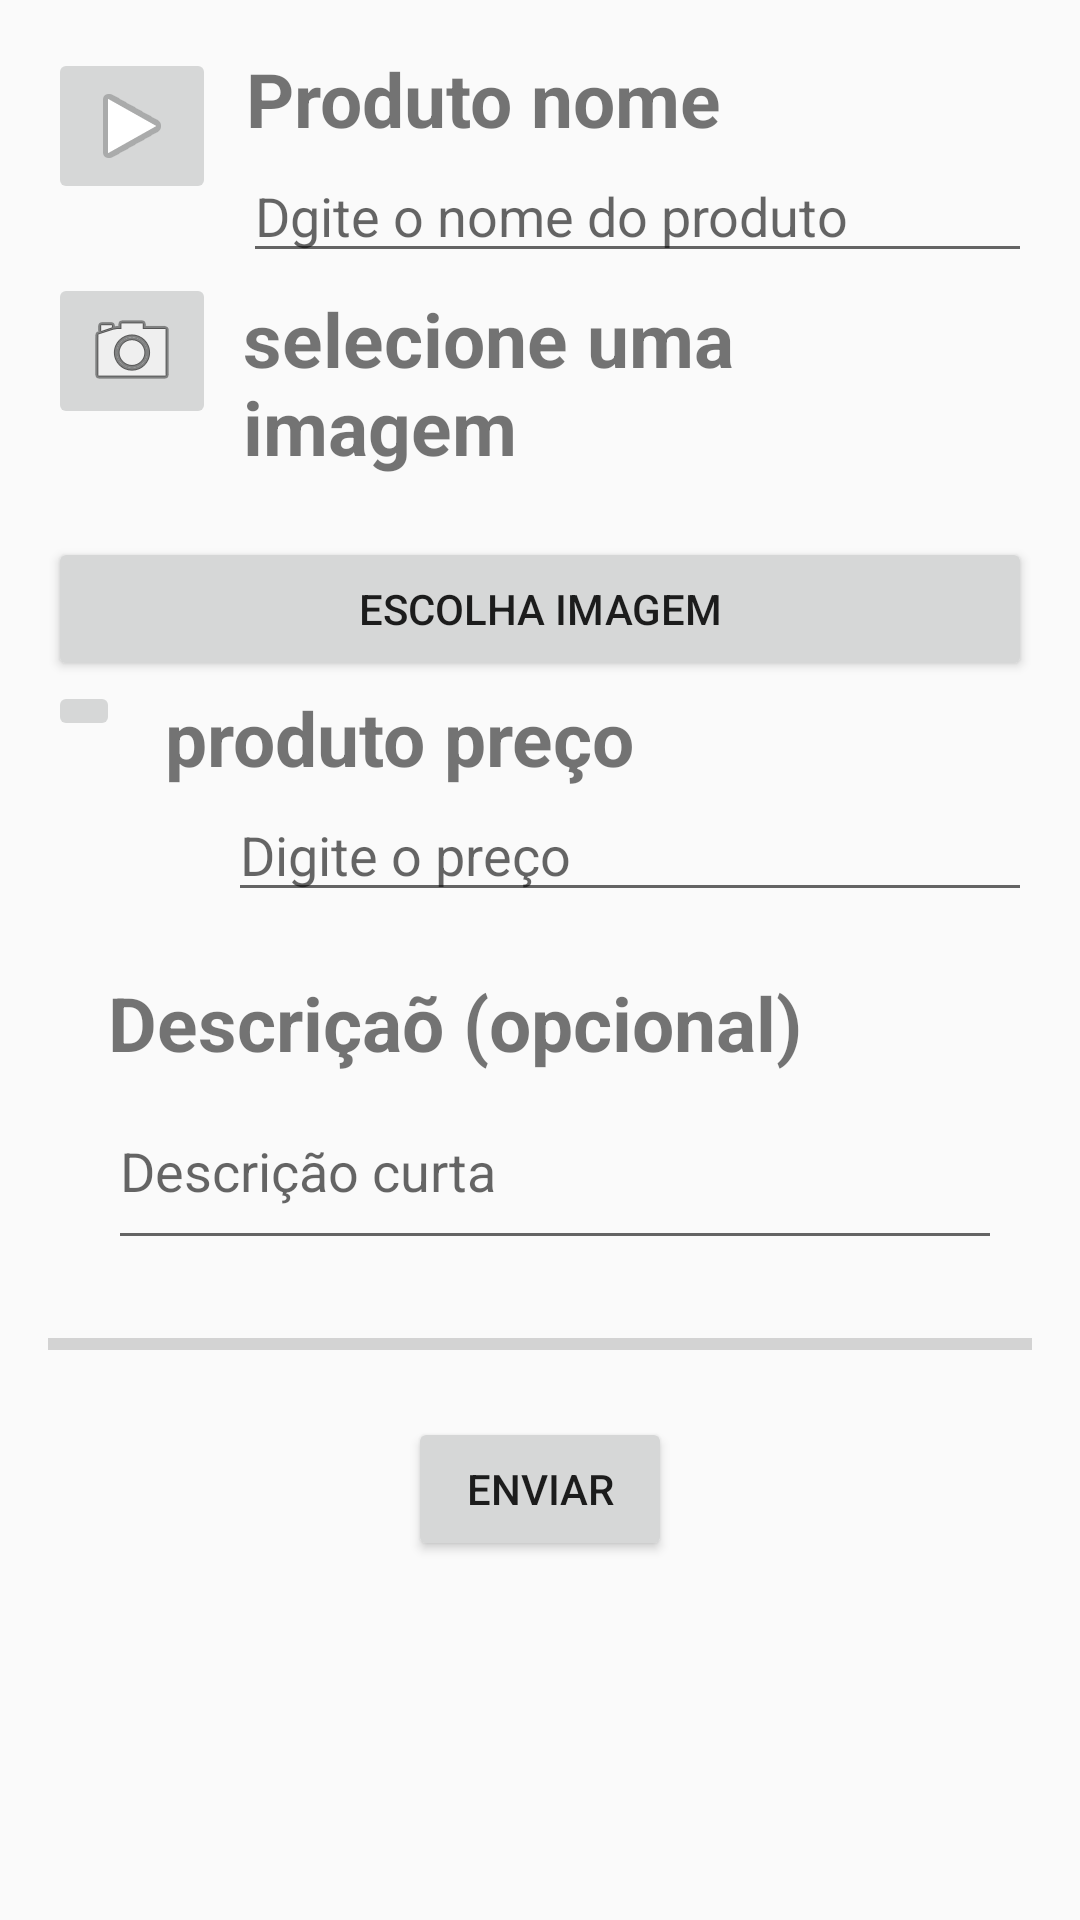

Point at icon controls on the screen. Image size 1080px x 1920px, points as [x,y].
camera: [132,351]
play: [132,126]
